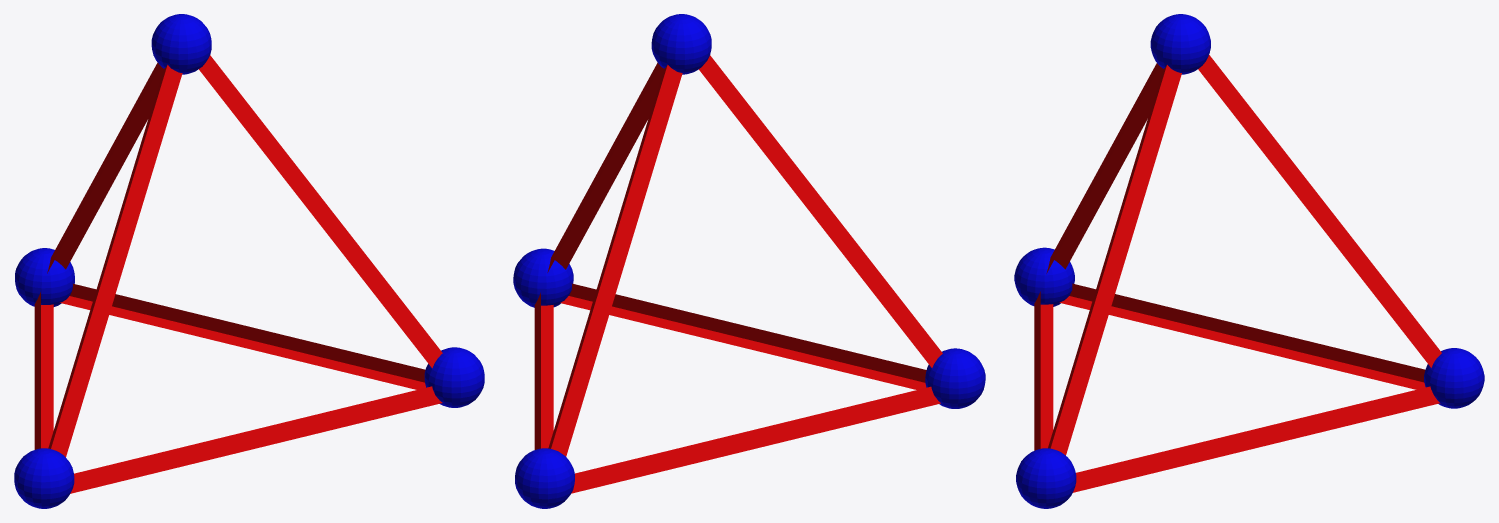
The model's file is tetraedro-vertice.glb.
3 views of the same model, side by side, from view 1: azimuth 30°, elevation 25°; view 2: azimuth 150°, elevation 25°; view 3: azimuth 270°, elevation 25° (orthographic).
Parts seen in each view (by area): view 1: Cone, Sphere.003, Sphere, Sphere.002, Sphere.001; view 2: Cone, Sphere.001, Sphere, Sphere.003, Sphere.002; view 3: Cone, Sphere.002, Sphere, Sphere.001, Sphere.003.
Boxes of the visible parts, <box> form: Cone: <box>34,55,442,493</box>; Sphere.003: <box>14,448,74,508</box>; Sphere: <box>151,14,211,74</box>; Sphere.002: <box>424,347,484,407</box>; Sphere.001: <box>15,248,74,306</box>; Cone: <box>534,55,942,493</box>; Sphere.001: <box>515,448,574,508</box>; Sphere: <box>651,14,711,74</box>; Sphere.003: <box>925,348,985,408</box>; Sphere.002: <box>513,248,573,307</box>; Cone: <box>1034,55,1441,492</box>; Sphere.002: <box>1016,448,1076,508</box>; Sphere: <box>1150,14,1210,74</box>; Sphere.001: <box>1424,348,1484,408</box>; Sphere.003: <box>1014,247,1074,306</box>.
Bounding box in the file's own units: 1.06 × 0.8477 × 0.9283.
